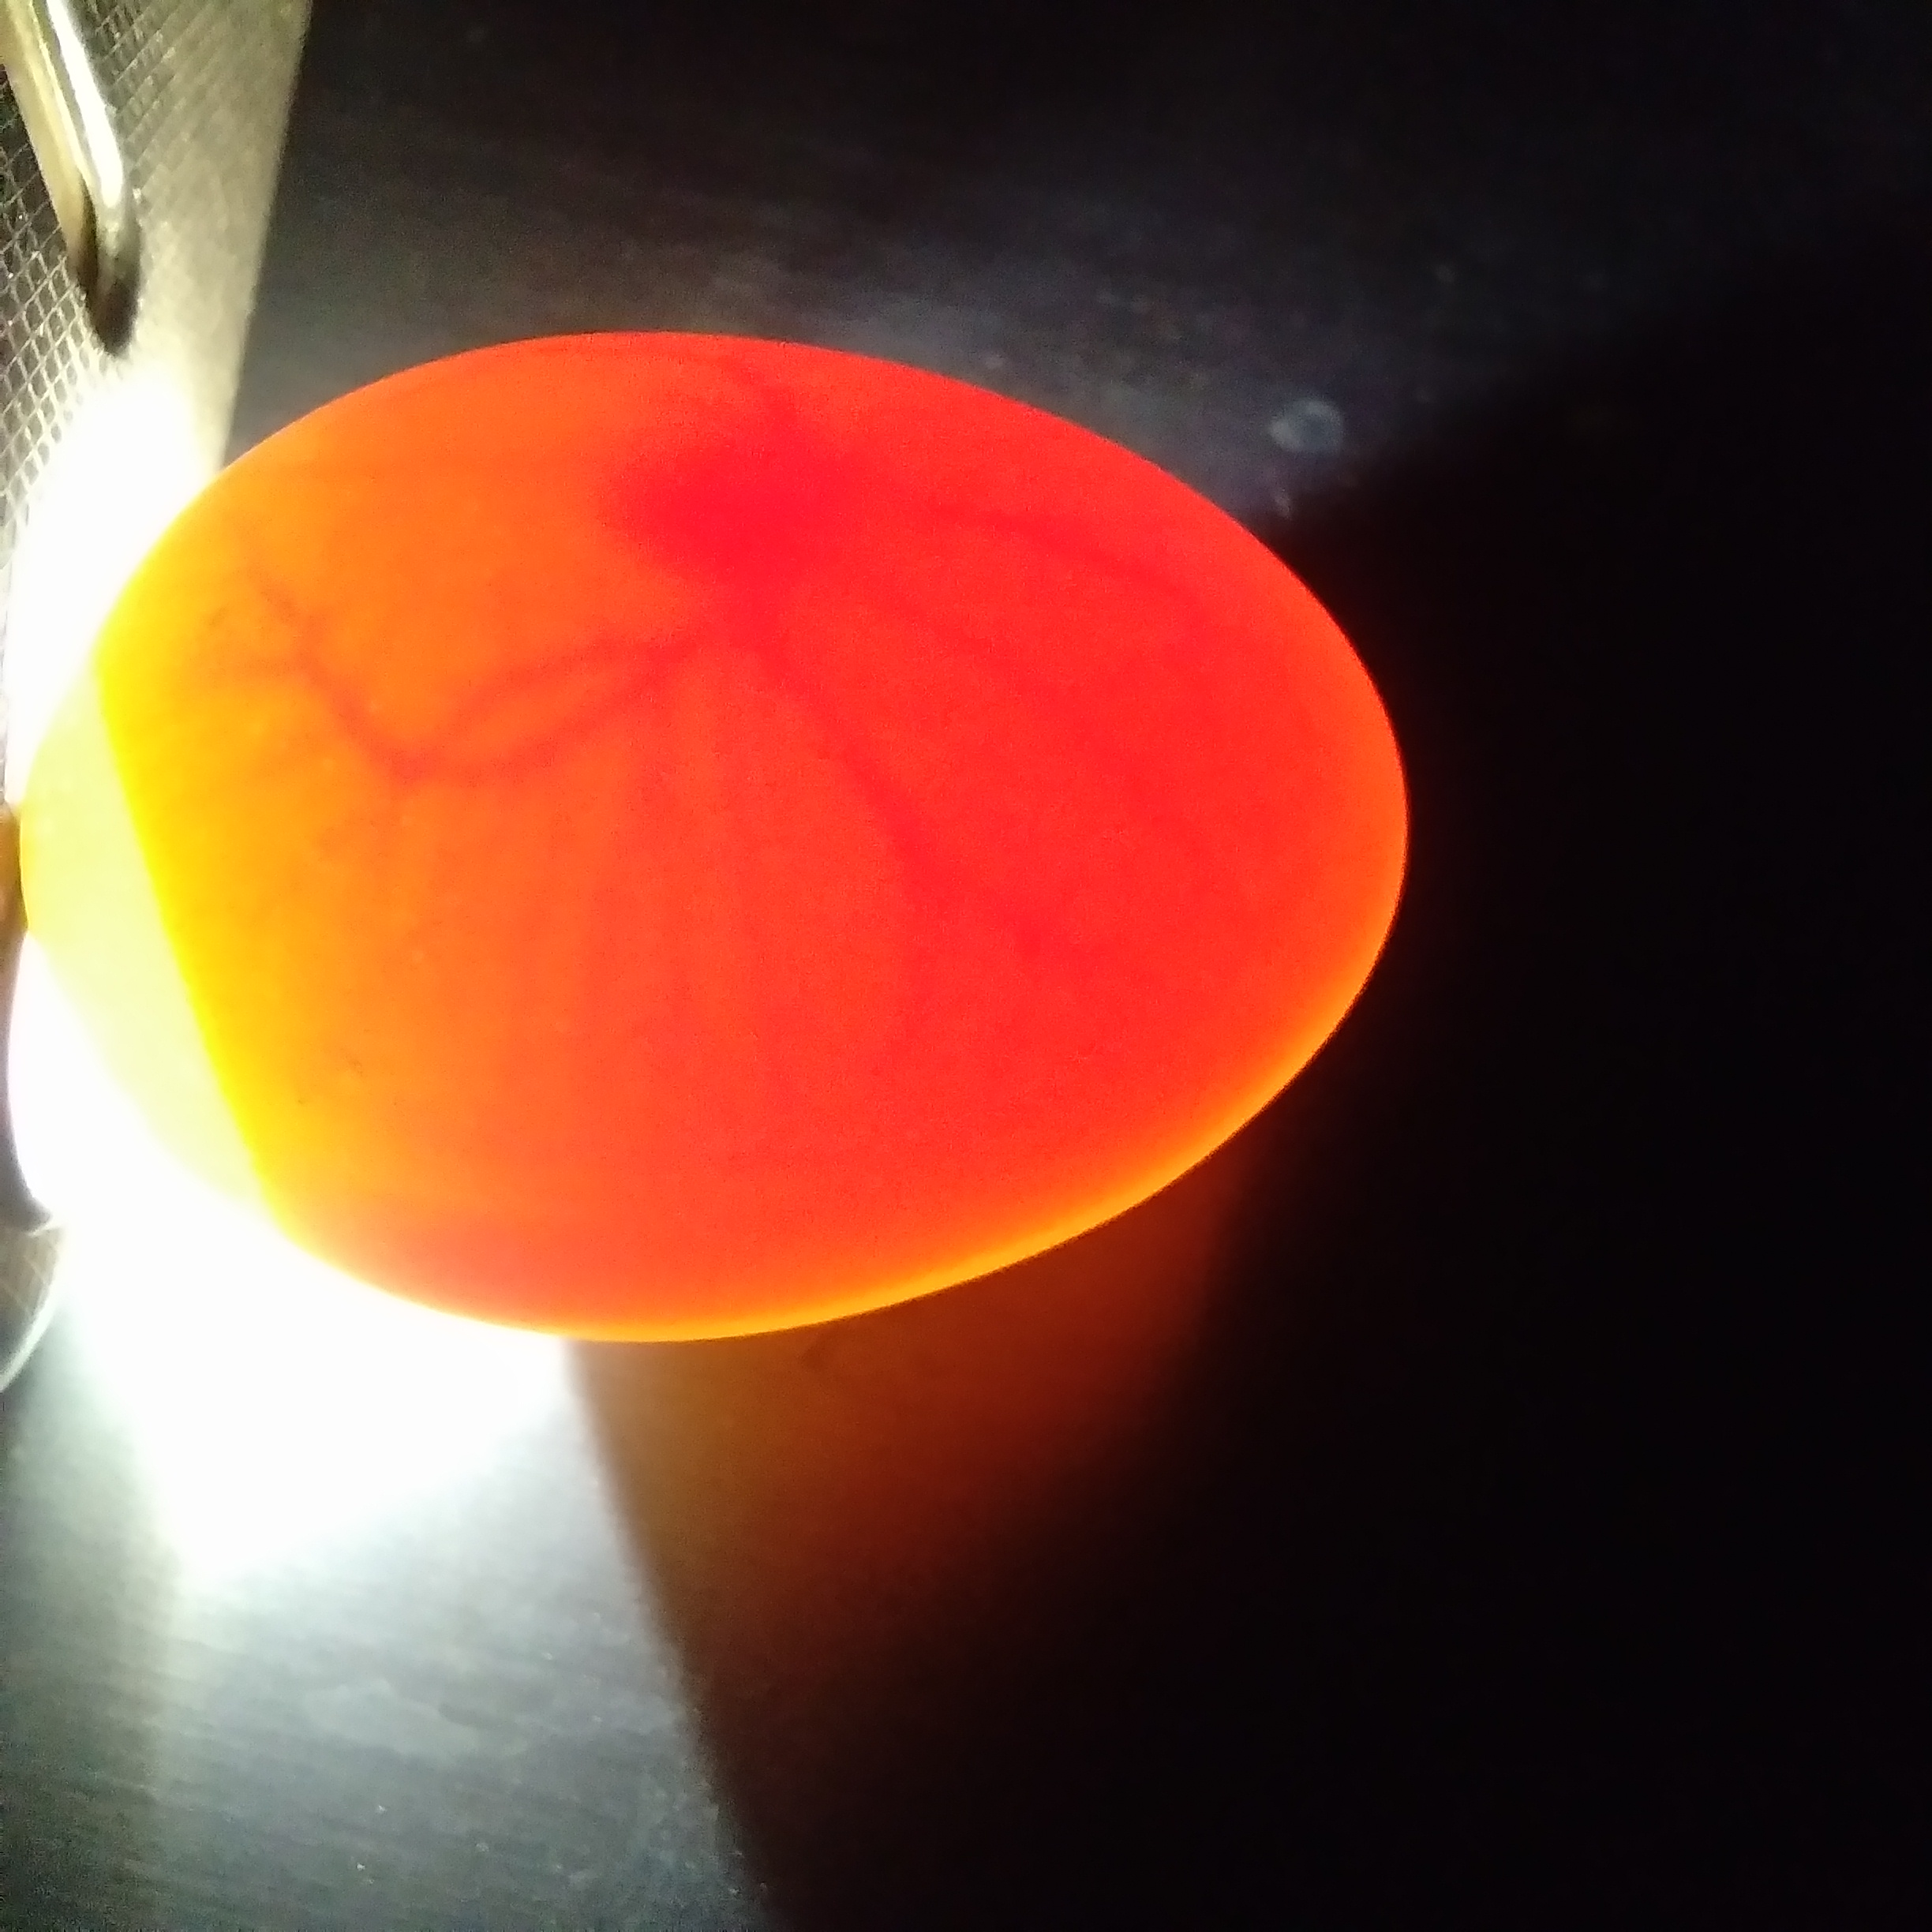bloodcell: (226, 550, 791, 996)
embryo: (375, 1164, 602, 1309)
